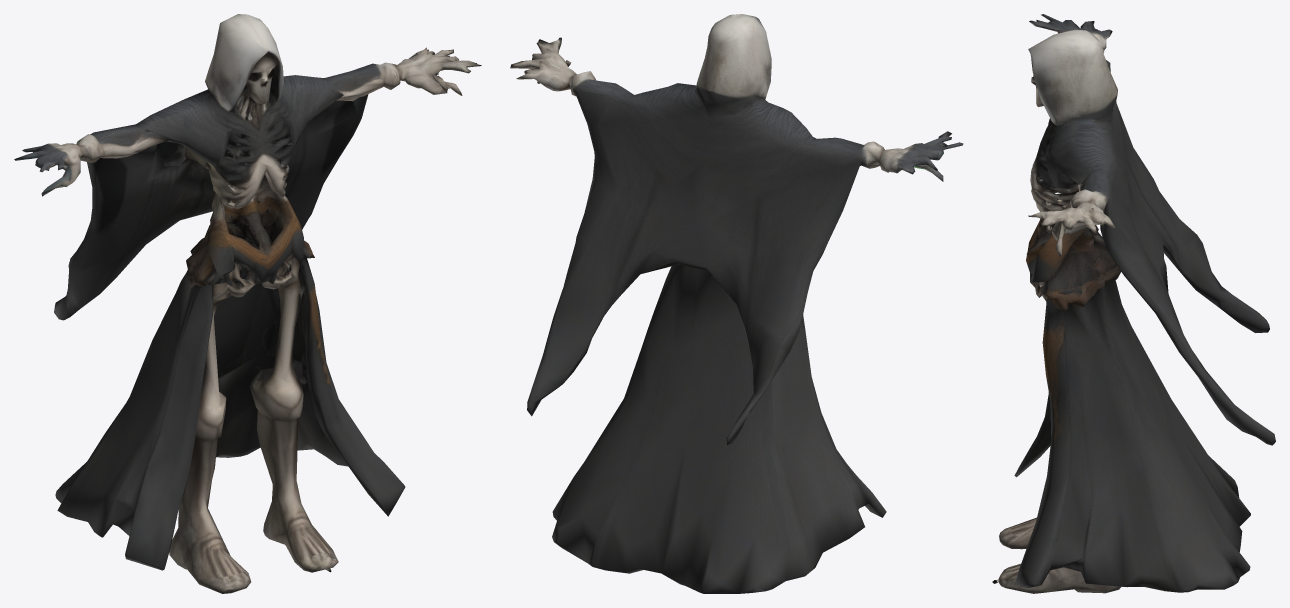
Rendered from lich.glb.
3 renders of one model, left to right at view 1: azimuth 30°, elevation 25°; view 2: azimuth 150°, elevation 25°; view 3: azimuth 270°, elevation 25°, orthographic. The views are drawn at different scales.
Bounding box in the file's own units: 1.71 × 2 × 0.9657.
Materials: 1 (1 with a texture image).
